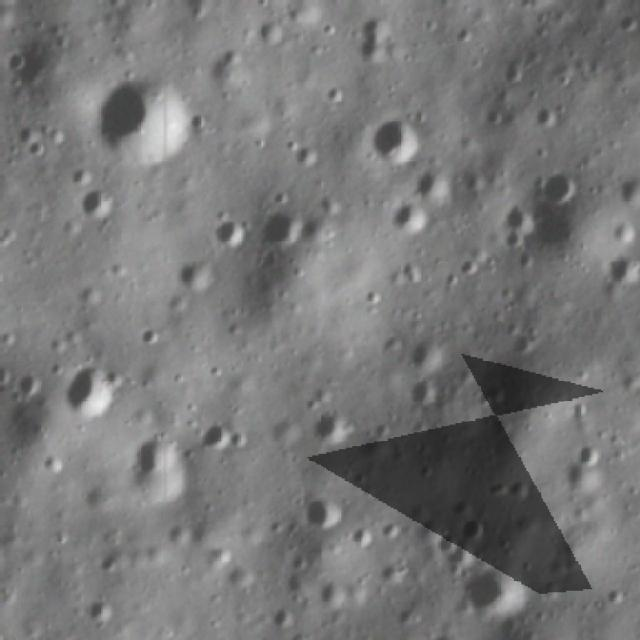crater: (89, 67, 194, 178), (456, 558, 530, 627), (122, 430, 186, 505), (60, 361, 123, 425), (368, 107, 428, 165), (257, 200, 303, 252), (176, 250, 227, 293), (534, 164, 581, 210), (211, 207, 254, 253), (312, 404, 356, 448), (83, 180, 125, 223), (412, 162, 456, 202), (300, 494, 343, 534), (346, 27, 389, 67), (383, 199, 429, 236), (408, 332, 450, 371), (495, 198, 543, 232), (214, 43, 252, 85), (315, 572, 354, 612), (194, 417, 231, 457), (571, 433, 609, 470), (606, 247, 640, 288), (403, 374, 440, 411), (494, 55, 531, 90), (528, 101, 564, 136), (289, 139, 325, 173), (455, 511, 491, 544), (251, 16, 286, 49), (612, 168, 640, 208), (14, 362, 43, 400), (82, 598, 123, 624), (3, 44, 31, 82), (429, 529, 463, 560), (609, 216, 640, 249), (268, 601, 298, 634), (348, 522, 378, 552), (494, 226, 528, 252), (414, 626, 477, 640), (224, 428, 256, 452), (316, 190, 350, 212), (609, 11, 640, 35), (68, 159, 95, 186), (96, 552, 124, 578), (454, 255, 483, 279), (139, 322, 163, 347)
